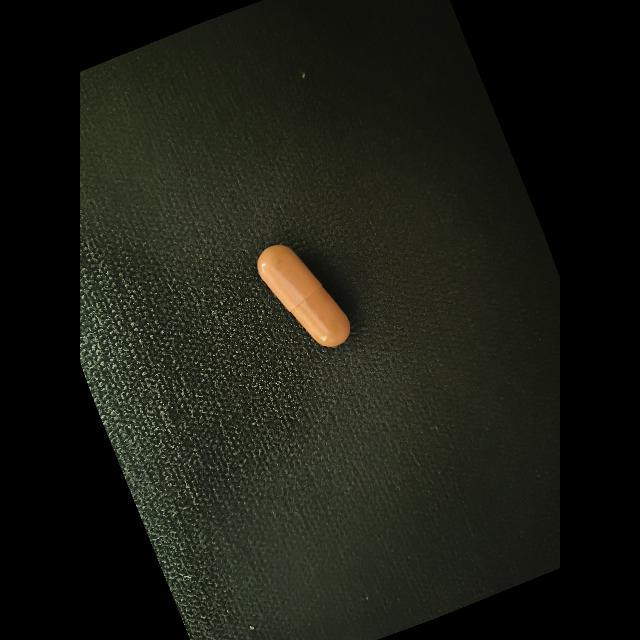Intact Capsule: (257, 245, 350, 347)
